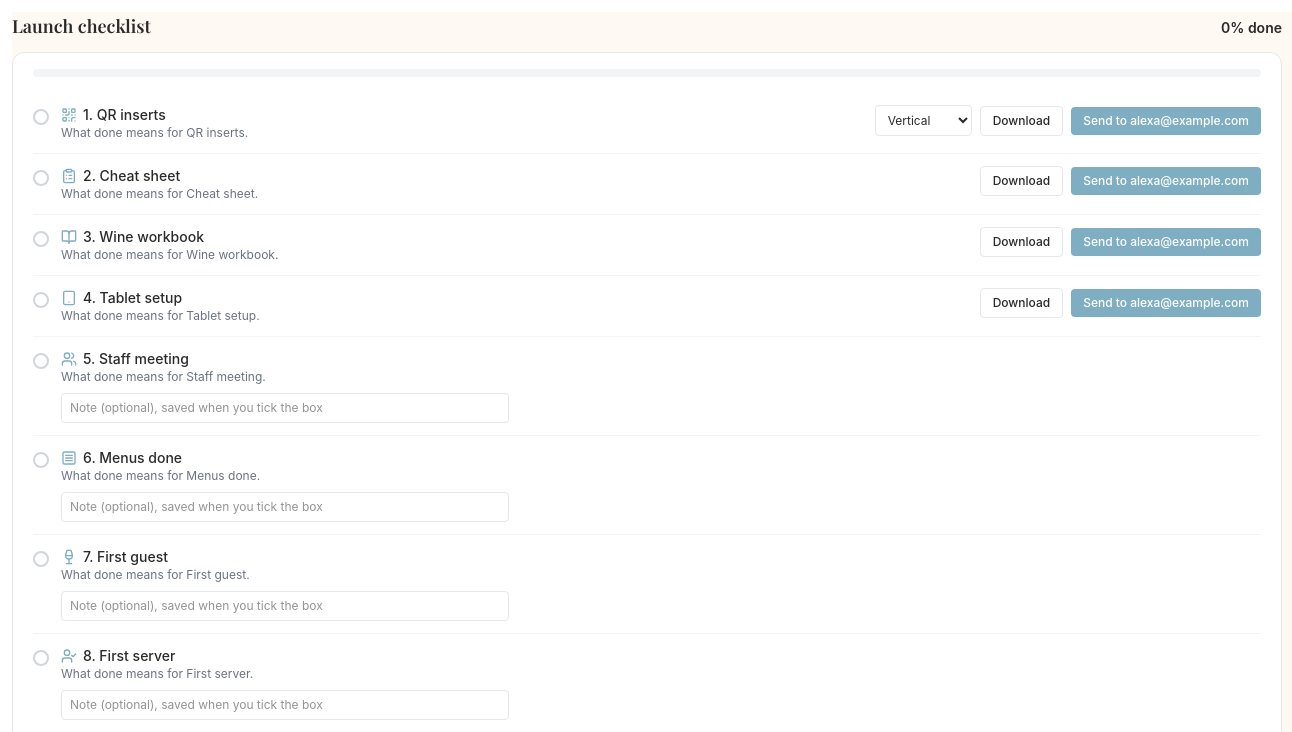
Test: Launch checklist section › ticks a manual step with its note, and shows who and when
Expected: the text "0% done" is shown, [1221,18,1282,38]
Type "All servers" into the field named "Note for Staff meeting" at (285,408), box [61,393,509,423]
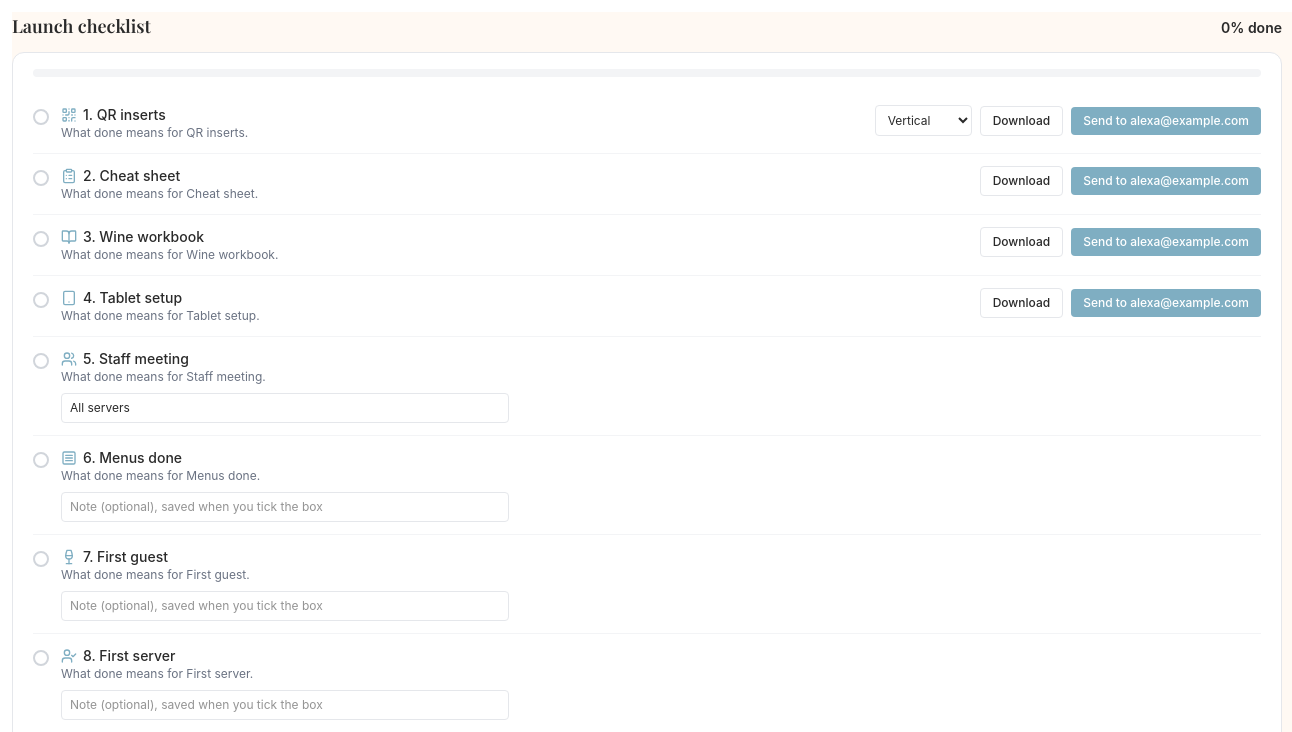
Click the checkbox named "5. Staff meeting" at (41,361), box [33,353,49,369]
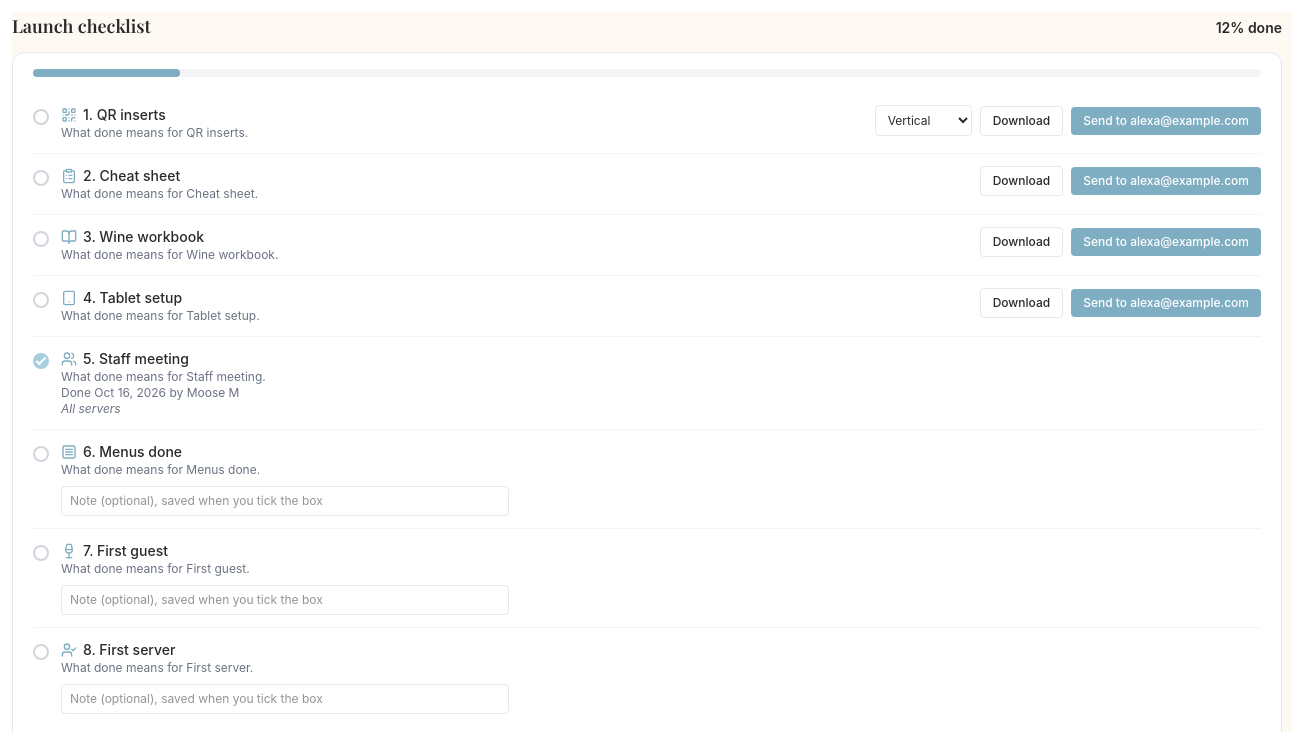
Now the text with test id "launch-done-staff_meeting" reads "Done Oct 16, 2026 by Moose M", box [61,385,239,400]
Now the text "All servers" is shown, box [61,401,121,416]
